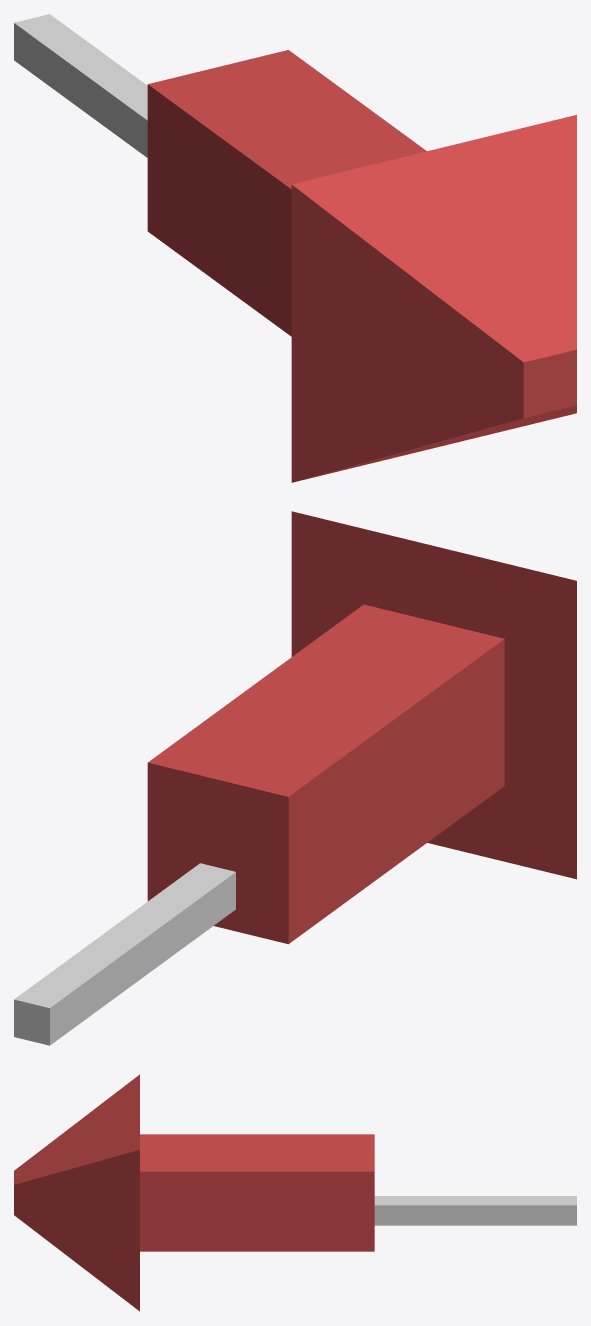
File: feuerwerk.fbx
3 renders of one model, top to bottom at view 1: azimuth 30°, elevation 25°; view 2: azimuth 150°, elevation 25°; view 3: azimuth 270°, elevation 25°, orthographic. The views are drawn at different scales.
Visible parts, largest first — view 1: Cube166; view 2: Cube166; view 3: Cube166.
Boxes of the visible parts, left/top/right/bottom form: Cube166: left=14, top=14, right=576, bottom=482; Cube166: left=14, top=511, right=576, bottom=1045; Cube166: left=14, top=1074, right=576, bottom=1311.
Bounding box in the file's own units: 160 × 160 × 504.
